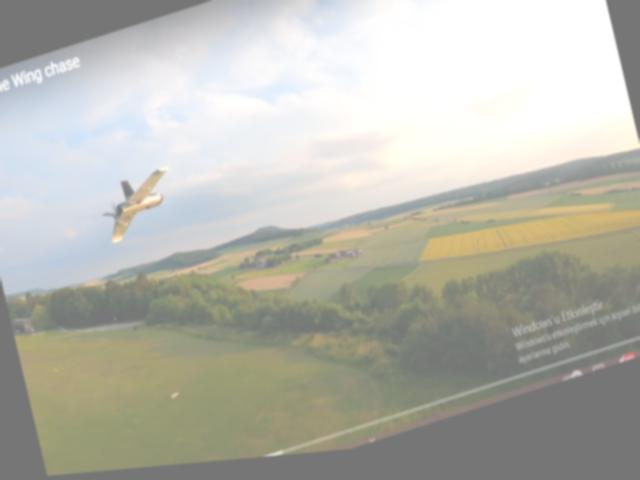plane: (97, 168, 181, 246)
